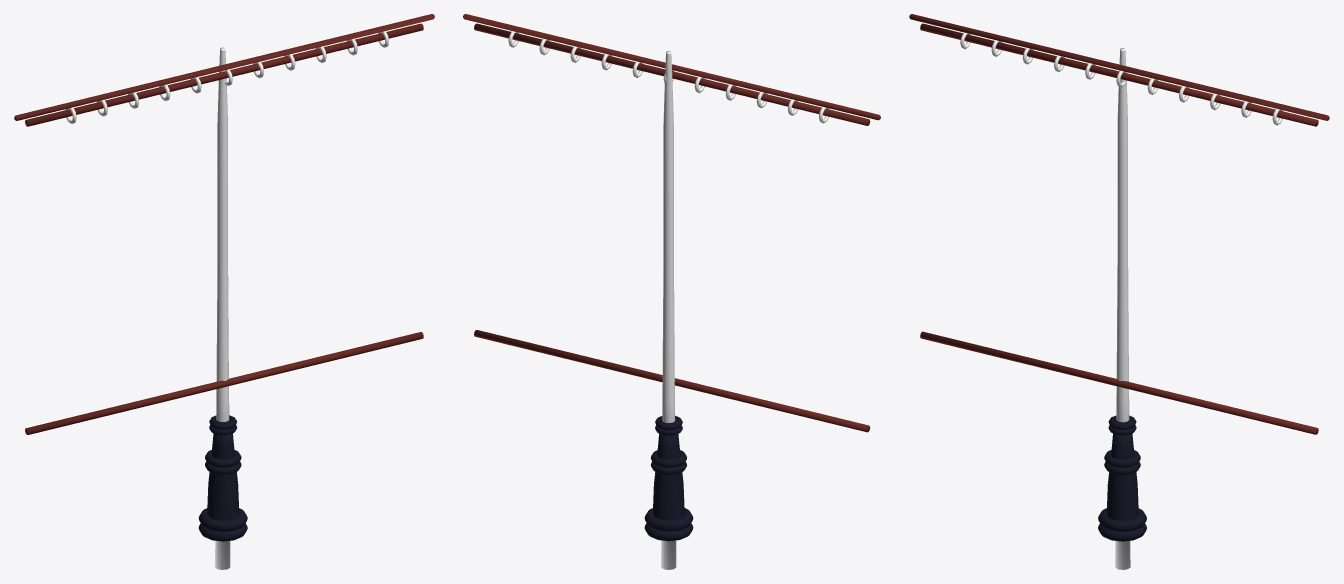
File: MiddlePole.fbx
The picture shows the model from 3 angles, left to right: view 1: azimuth 30°, elevation 25°; view 2: azimuth 150°, elevation 25°; view 3: azimuth 330°, elevation 25°; orthographic projection.
Visible parts, largest first — view 1: MiddlePole_LOD0; view 2: MiddlePole_LOD0; view 3: MiddlePole_LOD0.
Boxes of the visible parts, bbox=[...] form: MiddlePole_LOD0: bbox=[14, 14, 434, 569]; MiddlePole_LOD0: bbox=[463, 14, 880, 569]; MiddlePole_LOD0: bbox=[909, 14, 1329, 569].
Size of what is drawn, in the model's own units: 41.49 by 48.99 by 4.21.
Materials: 4 (1 with a texture image).
